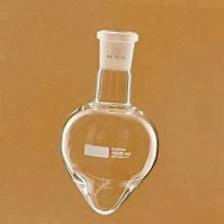Pear shaped flask: (57, 18, 160, 211)
